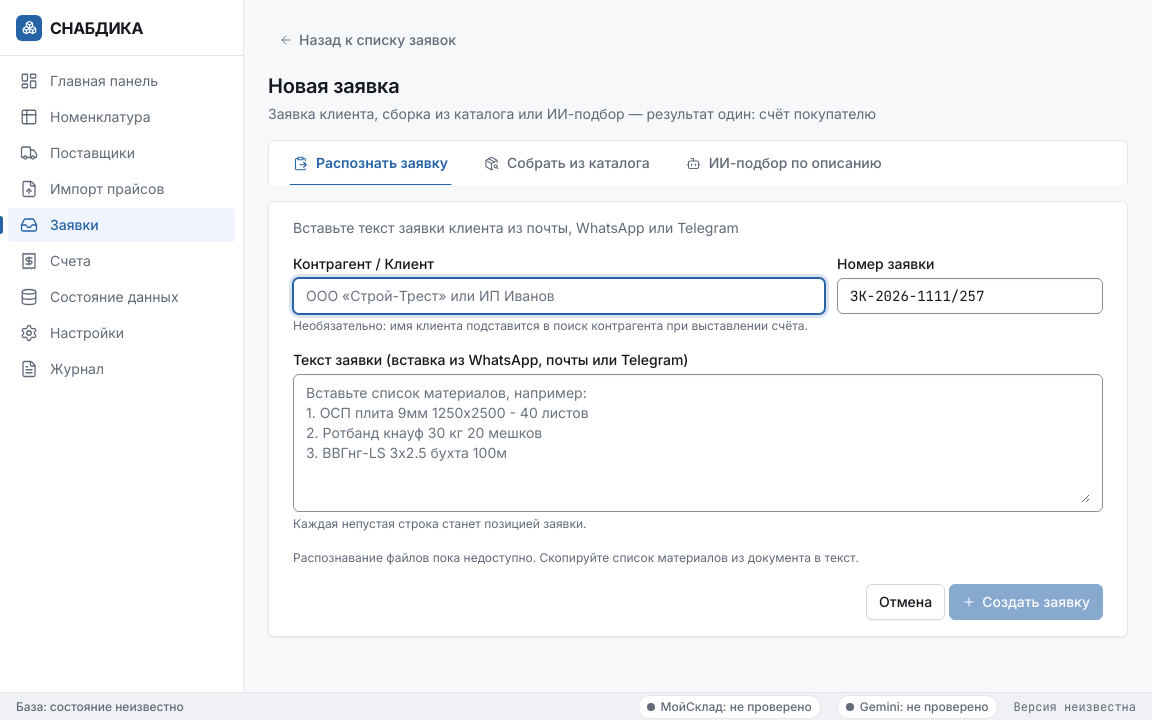
Scenario: Оболочка приложения: новые маршруты раздела «Заявки» › открывает страницу создания документа и переключает способы
Expected: the heading "Новая заявка" is shown, [268,74,400,98]
Click the tab "Собрать из каталога": coordinates (567, 163) [468,141,666,185]
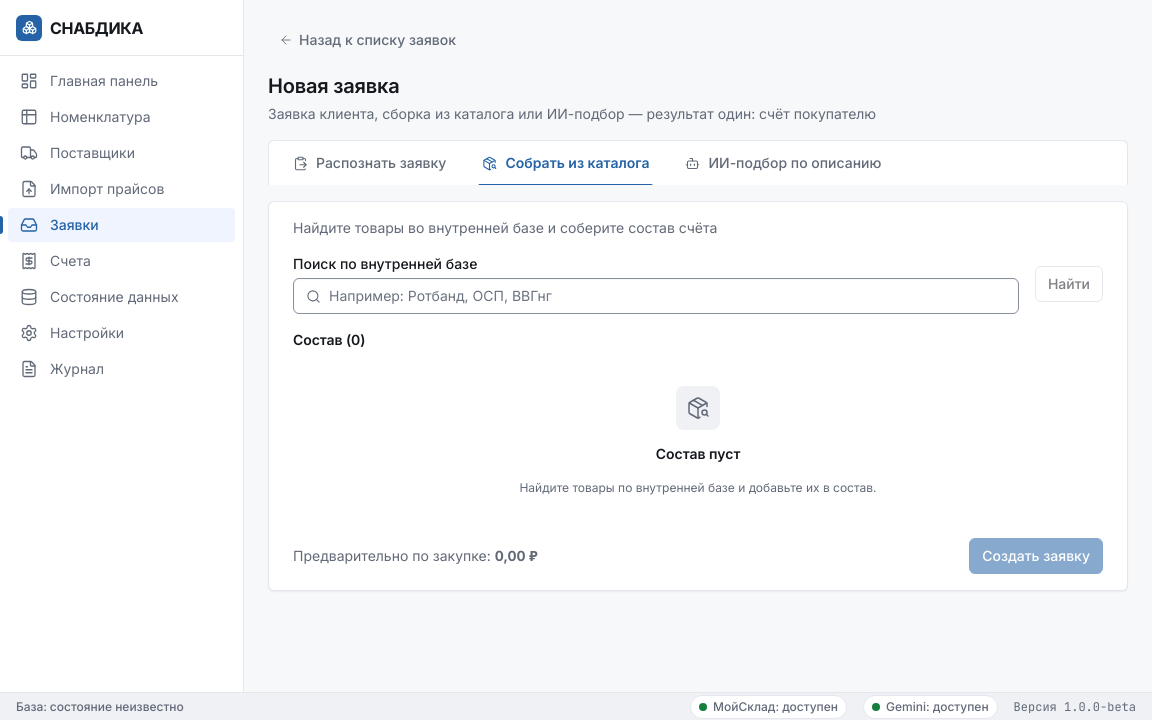
Expected: the field labelled "Поиск по внутренней базе" is shown, [329,286,1006,306]
Click the tab "ИИ-подбор по описанию": coordinates (784, 163) [670,141,898,185]
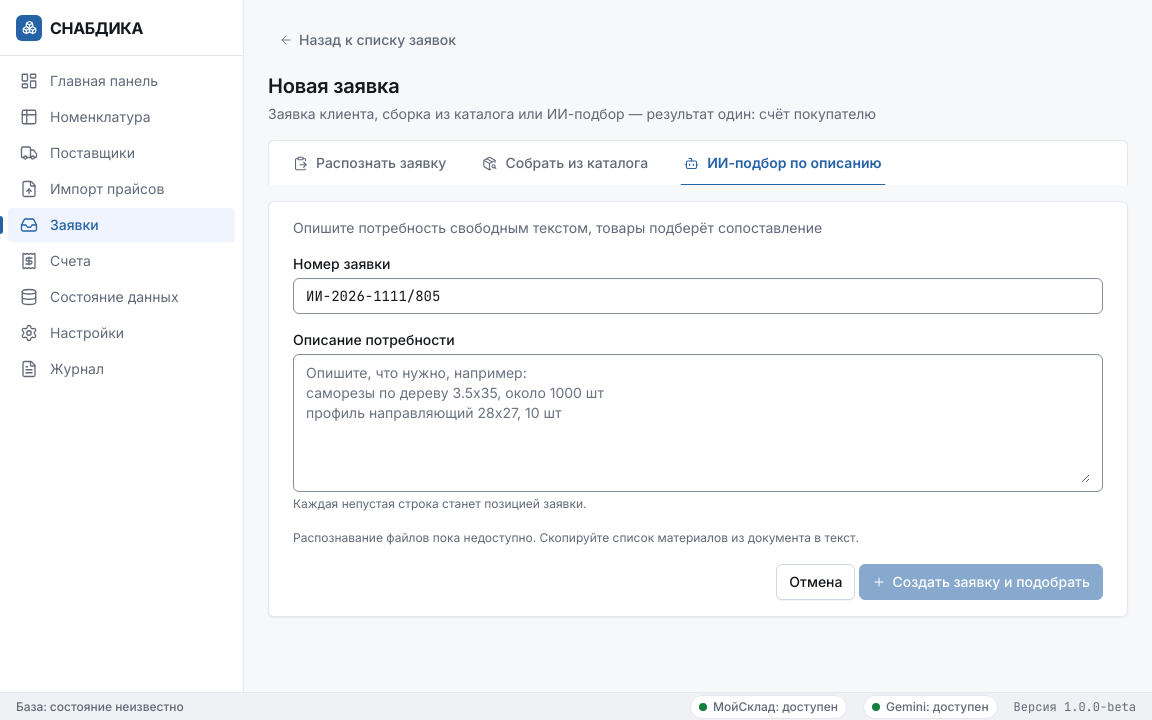
Now the text box labelled "Описание потребности" is shown, box [306,363,1090,483]
